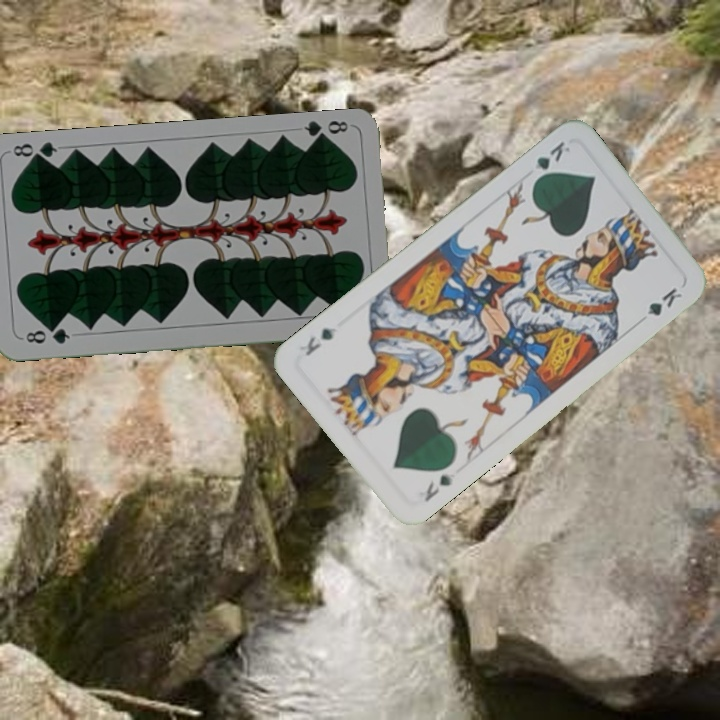G8: (300, 116, 350, 145), (21, 323, 73, 347)
GK: (528, 137, 573, 186), (420, 470, 456, 505)
